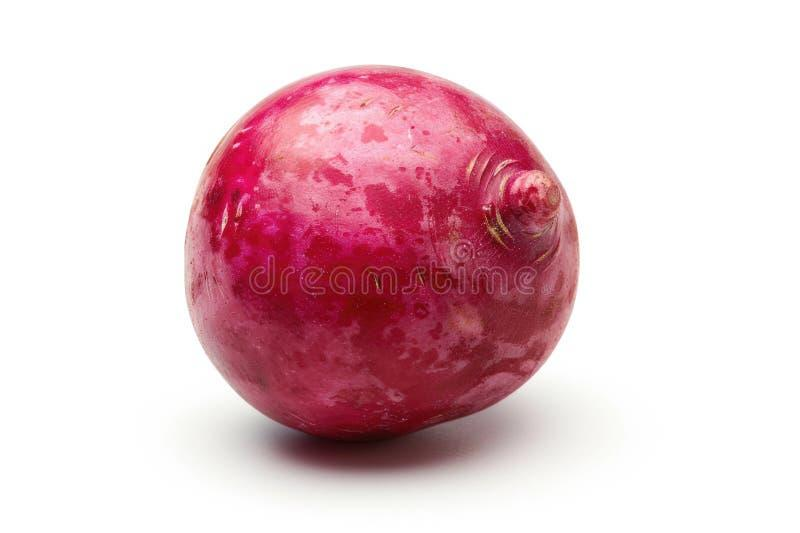Onion: (186, 69, 578, 437)
